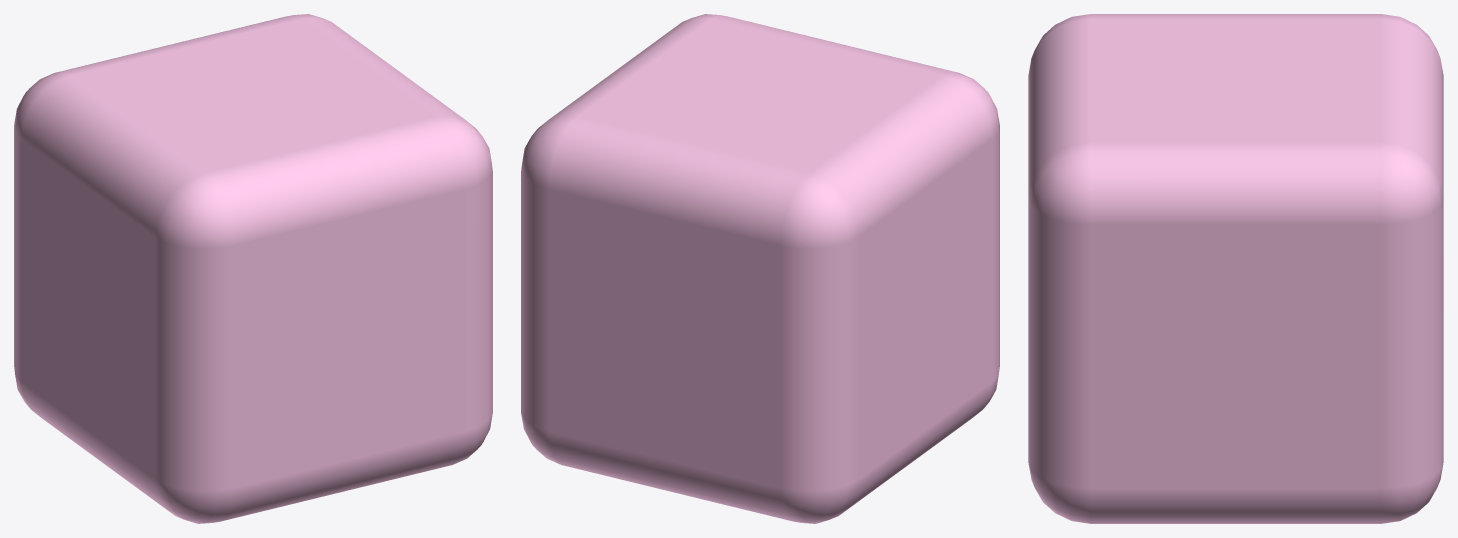
Rendered from pink_cube.fbx.
3 views of the same model, side by side, from view 1: azimuth 30°, elevation 25°; view 2: azimuth 150°, elevation 25°; view 3: azimuth 270°, elevation 25° (orthographic). The views are drawn at different scales.
Parts seen in each view (by area): view 1: 큐브; view 2: 큐브; view 3: 큐브.
Part boxes in pixels (bbox=[...]): 큐브: bbox=[14, 14, 492, 523]; 큐브: bbox=[521, 14, 999, 523]; 큐브: bbox=[1028, 14, 1443, 523].
Size of the model in its own units: 200 by 200 by 200.
